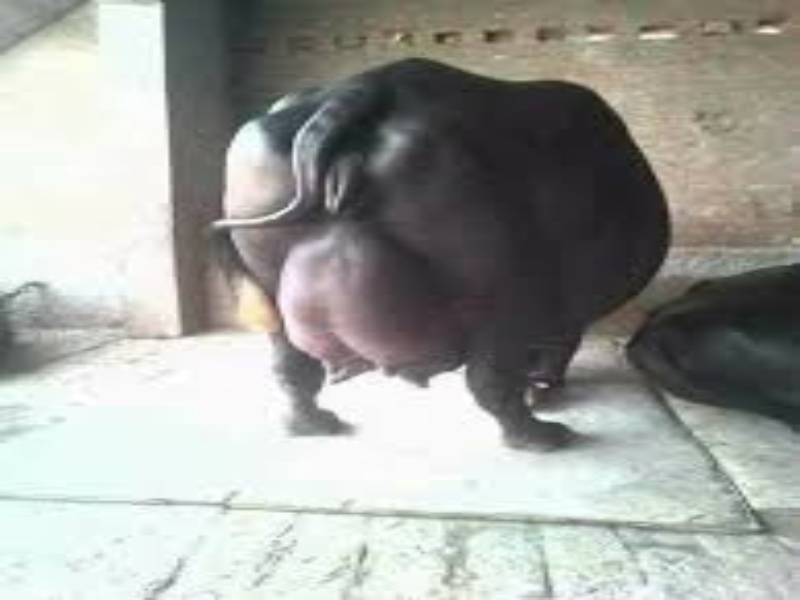buffalo: (212, 58, 678, 459)
